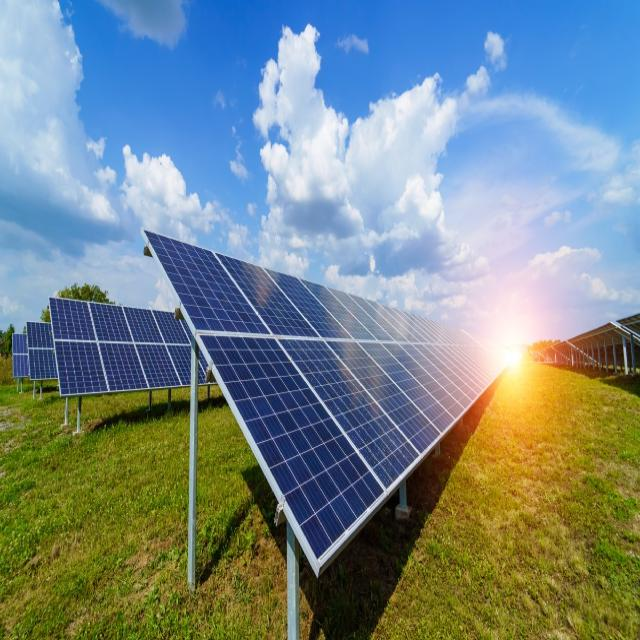clean-solar-panel: (146, 231, 508, 576)
